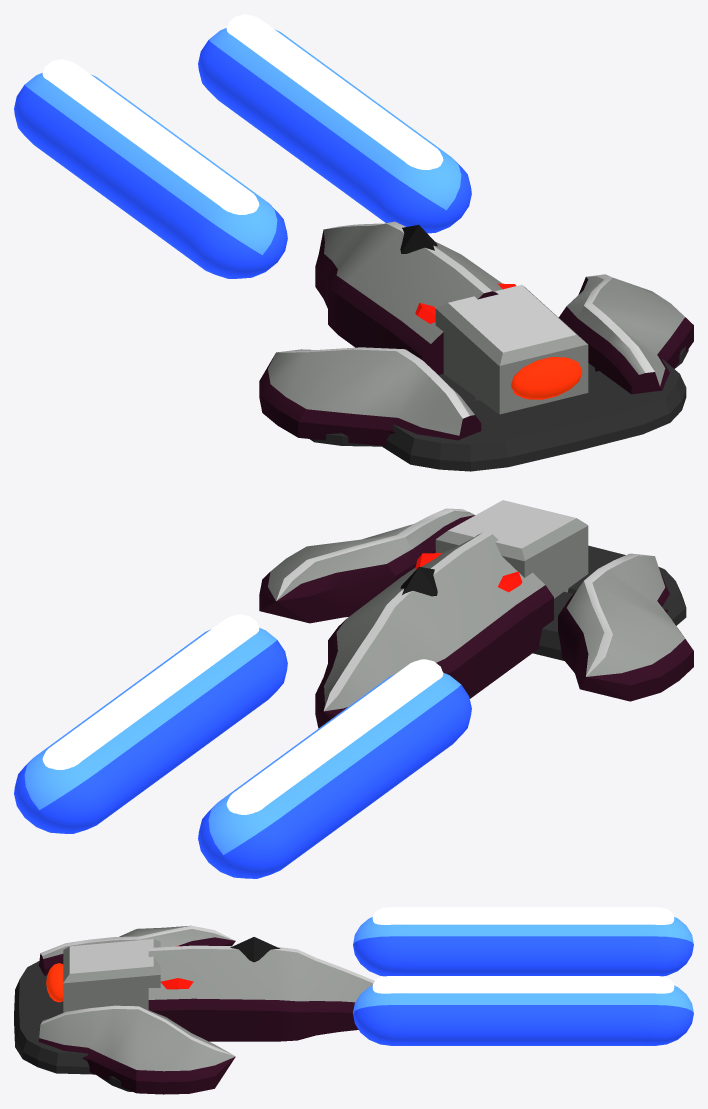
Rendered from pu_megalaser_twin_blue.glb.
3 renders of one model, top to bottom at view 1: azimuth 30°, elevation 25°; view 2: azimuth 150°, elevation 25°; view 3: azimuth 270°, elevation 25°, orthographic. The views are drawn at different scales.
Visible parts, largest first — view 1: beam_l, beam_r, blade_left, spire, base_rear, block, blade_right, beam_l_core, beam_r_core, exhaust, base_front, canopy; view 2: spire, beam_l, beam_r, blade_left, blade_right, block, beam_l_core, beam_r_core, base_rear, base_front, canopy; view 3: beam_r, beam_l, spire, blade_right, block, beam_r_core, beam_l_core, base_rear, blade_left, canopy, exhaust.
Part boxes in pixels (x1,y1,x2,y2): beam_l: (14, 73, 287, 278); beam_r: (198, 28, 471, 233); blade_left: (259, 347, 481, 446); spire: (315, 221, 502, 374); base_rear: (382, 359, 686, 471); block: (435, 285, 588, 414); blade_right: (559, 274, 693, 394); beam_l_core: (42, 59, 259, 214); beam_r_core: (226, 14, 443, 169); exhaust: (511, 357, 582, 399); base_front: (310, 346, 688, 446); canopy: (400, 225, 437, 253); spire: (315, 532, 553, 728); beam_l: (198, 672, 471, 878); beam_r: (14, 627, 287, 833); blade_left: (558, 553, 693, 701); blade_right: (259, 508, 474, 623); block: (435, 500, 588, 598); beam_l_core: (226, 659, 443, 814); beam_r_core: (42, 614, 259, 769); base_rear: (568, 545, 686, 625); base_front: (533, 591, 572, 660); canopy: (400, 566, 437, 596); beam_r: (353, 985, 693, 1045); beam_l: (353, 917, 693, 976); spire: (148, 945, 374, 1041); blade_right: (38, 1005, 235, 1094); block: (63, 939, 160, 1012); beam_r_core: (372, 976, 674, 993); beam_l_core: (372, 907, 674, 924); base_rear: (14, 961, 94, 1074); blade_left: (38, 925, 235, 975); canopy: (230, 937, 280, 962); exhaust: (46, 963, 63, 1002).
Size of the model in its own units: 13.1 by 3.48 by 25.12.
